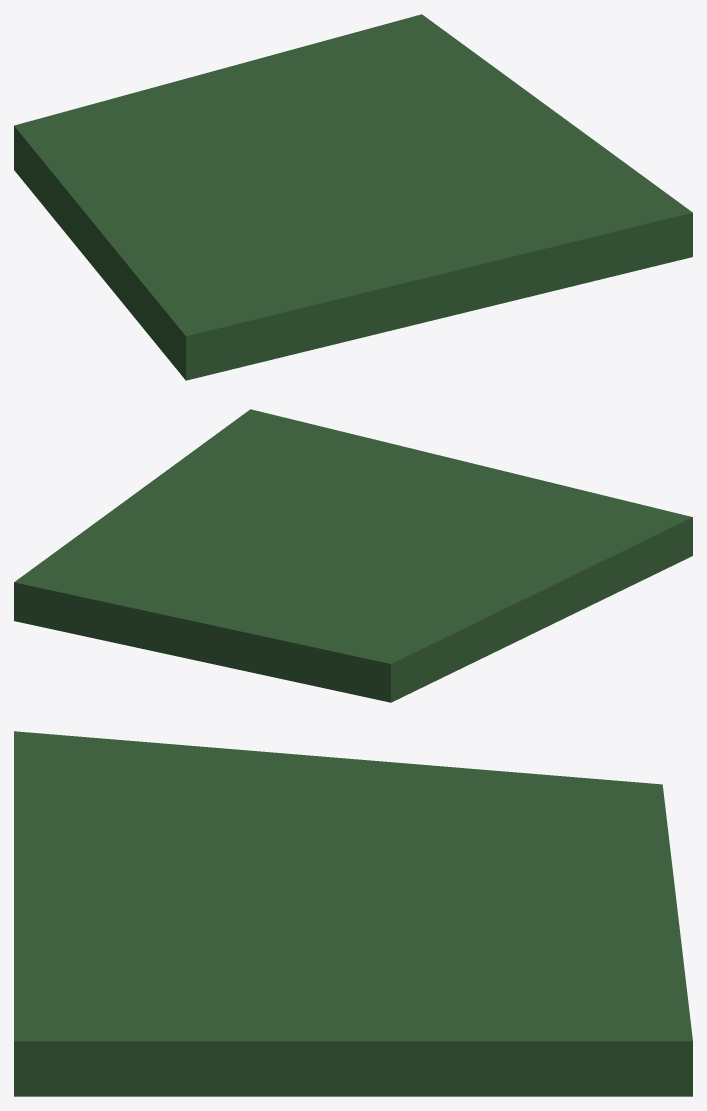
File: x_proval_00_207_1_rmstrd.fbx
3 views of the same model, one above another, from view 1: azimuth 30°, elevation 25°; view 2: azimuth 150°, elevation 25°; view 3: azimuth 270°, elevation 25° (orthographic). The views are drawn at different scales.
Parts seen in each view (by area): view 1: x_proval_00_207_1_rmstrd1; view 2: x_proval_00_207_1_rmstrd1; view 3: x_proval_00_207_1_rmstrd1.
Part boxes in pixels (left/top/right/bottom): x_proval_00_207_1_rmstrd1: left=14, top=14, right=692, bottom=380; x_proval_00_207_1_rmstrd1: left=14, top=409, right=692, bottom=702; x_proval_00_207_1_rmstrd1: left=14, top=731, right=692, bottom=1096.
Bounding box in the file's own units: 2.39 × 0.2 × 2.21.
